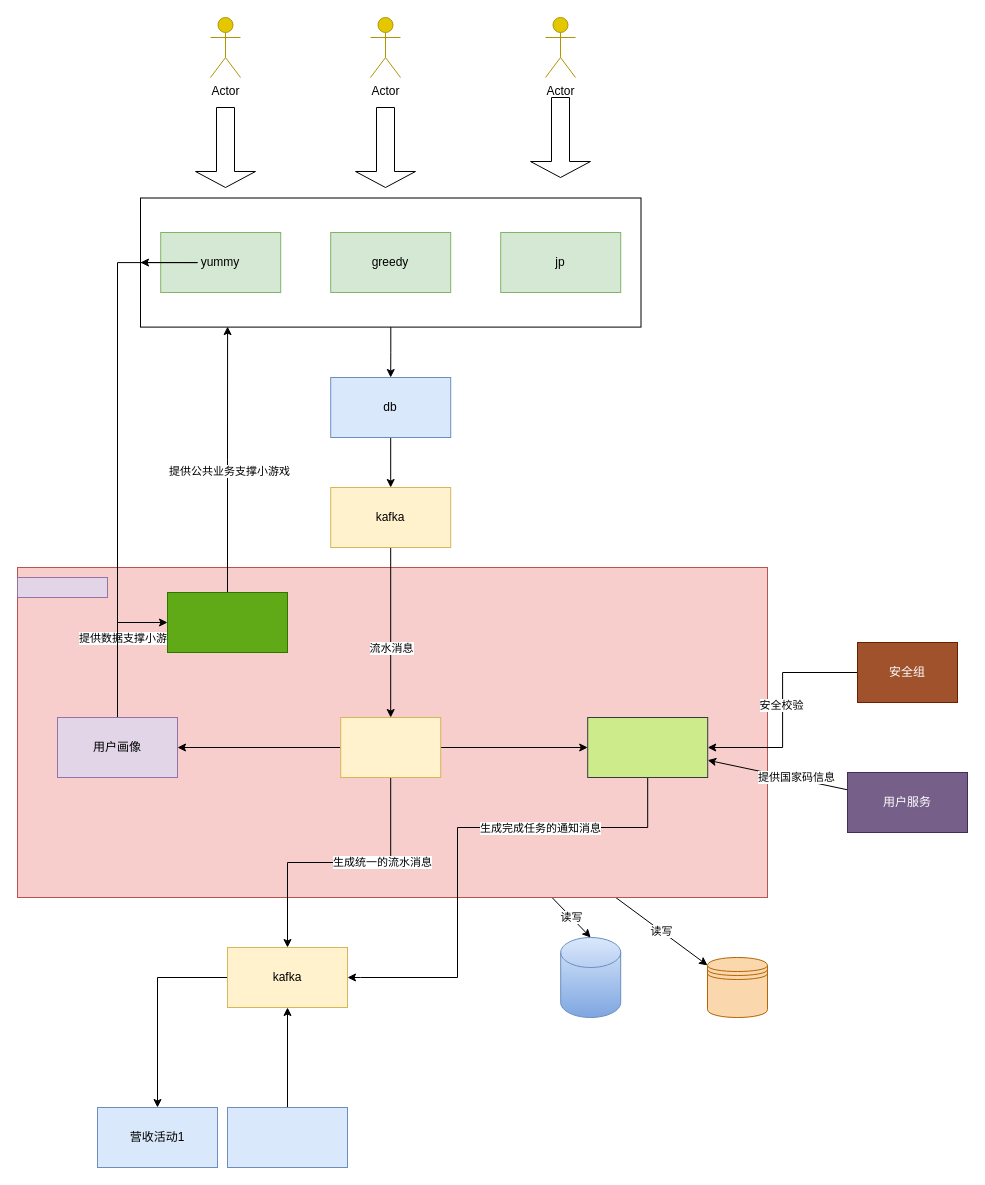
Image size: 985x1185. Some labels were removed from this diagram. Here are the shapes that lost their labels. From the top down, the centre of each, then its label:
At (x=62, y=587): "小游戏业务中台".
At (x=227, y=622): "小游戏营销工具".
At (x=390, y=747): "小游戏流水抽象".
At (x=647, y=747): "小游戏营销任务模板".
At (x=590, y=977): "redis".
At (x=737, y=987): "myshard".
At (x=287, y=1137): "营收活动2".
